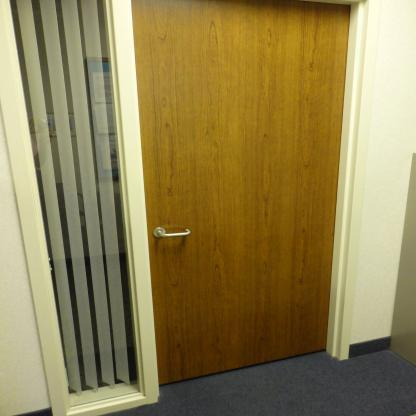door: (146, 0, 334, 352)
lever: (154, 228, 197, 238)
